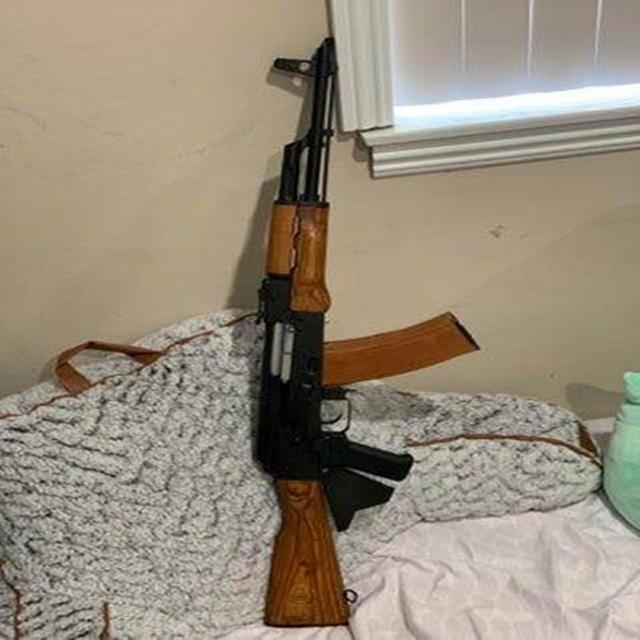ak: (213, 32, 494, 628)
